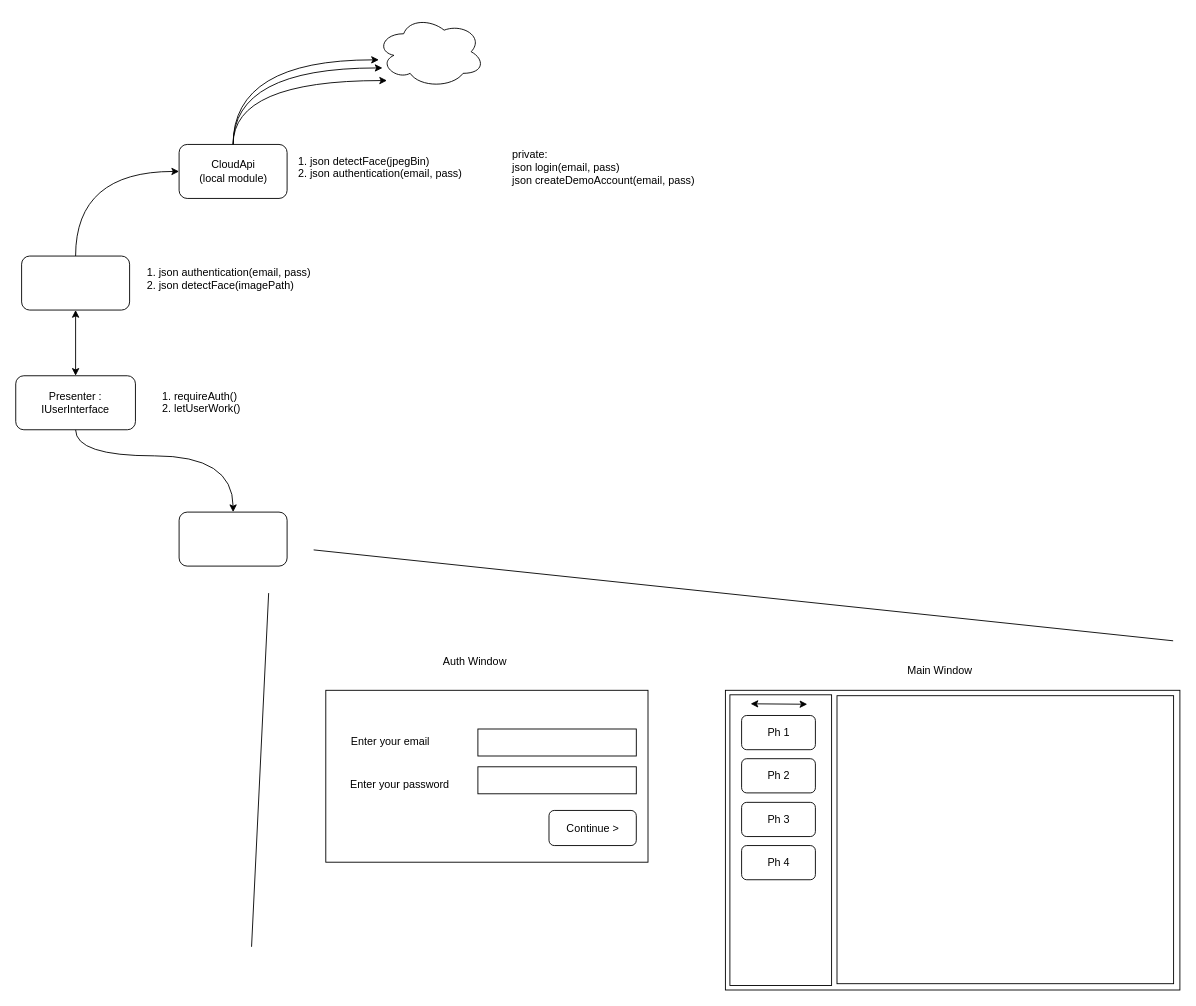
This 1196x1006 diagram has some shape labels left out. Here are the shapes that lost their labels. From the top down, the centre of each, then its label:
At (x=75, y=282): "App ( Logic for all UIs )".
At (x=232, y=538): "View".
At (x=1005, y=839): "Some photo from menu".
